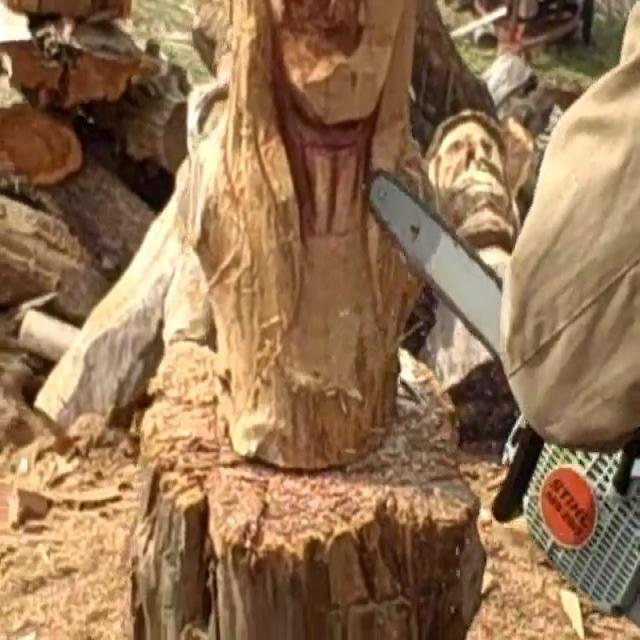Chainsaw: (327, 135, 640, 627)
